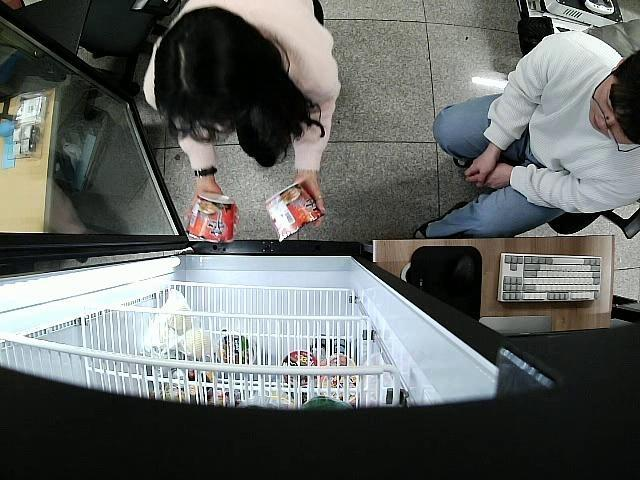01_ShinRamen_L: (266, 182, 326, 240), (186, 192, 238, 245)
